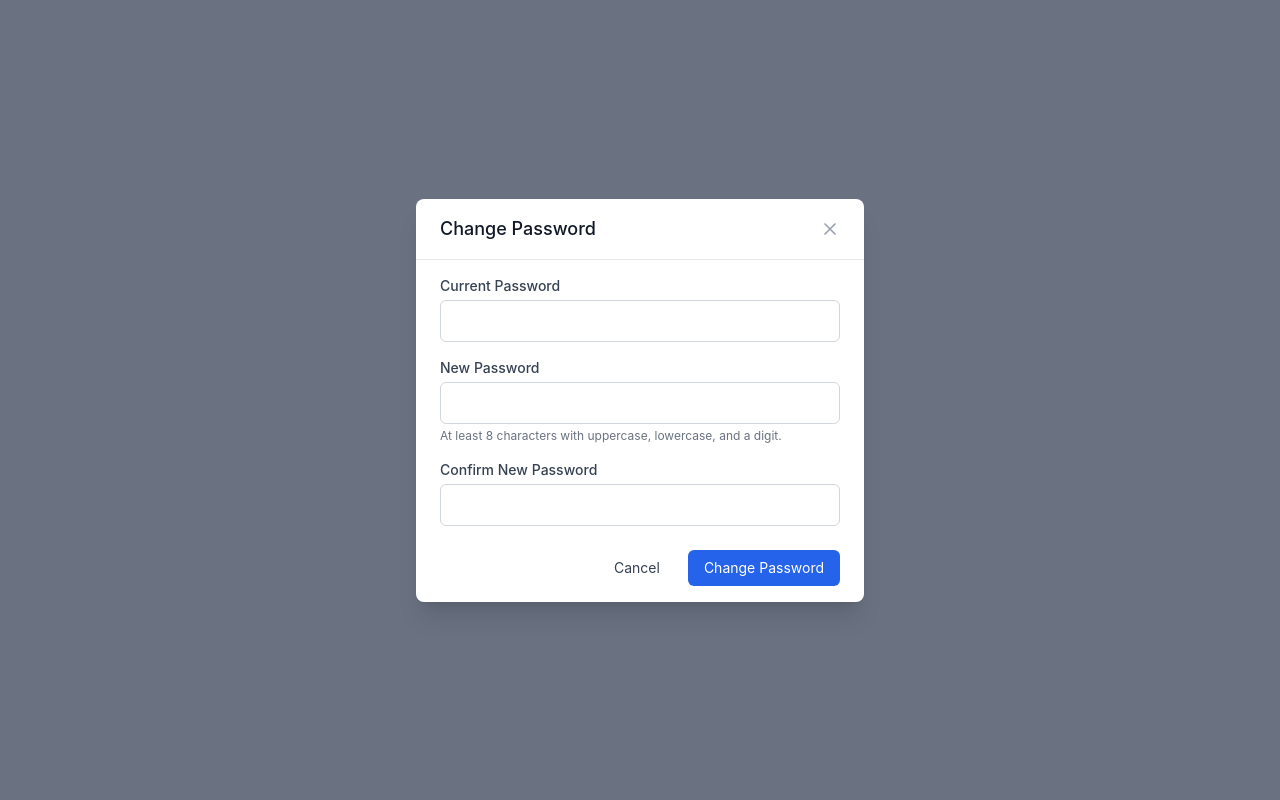
Test case: ChangePasswordModal › shows error when passwords do not match
Type "OldPass123" into the password field labelled "Current Password" at (640, 320), box [440, 300, 840, 342]
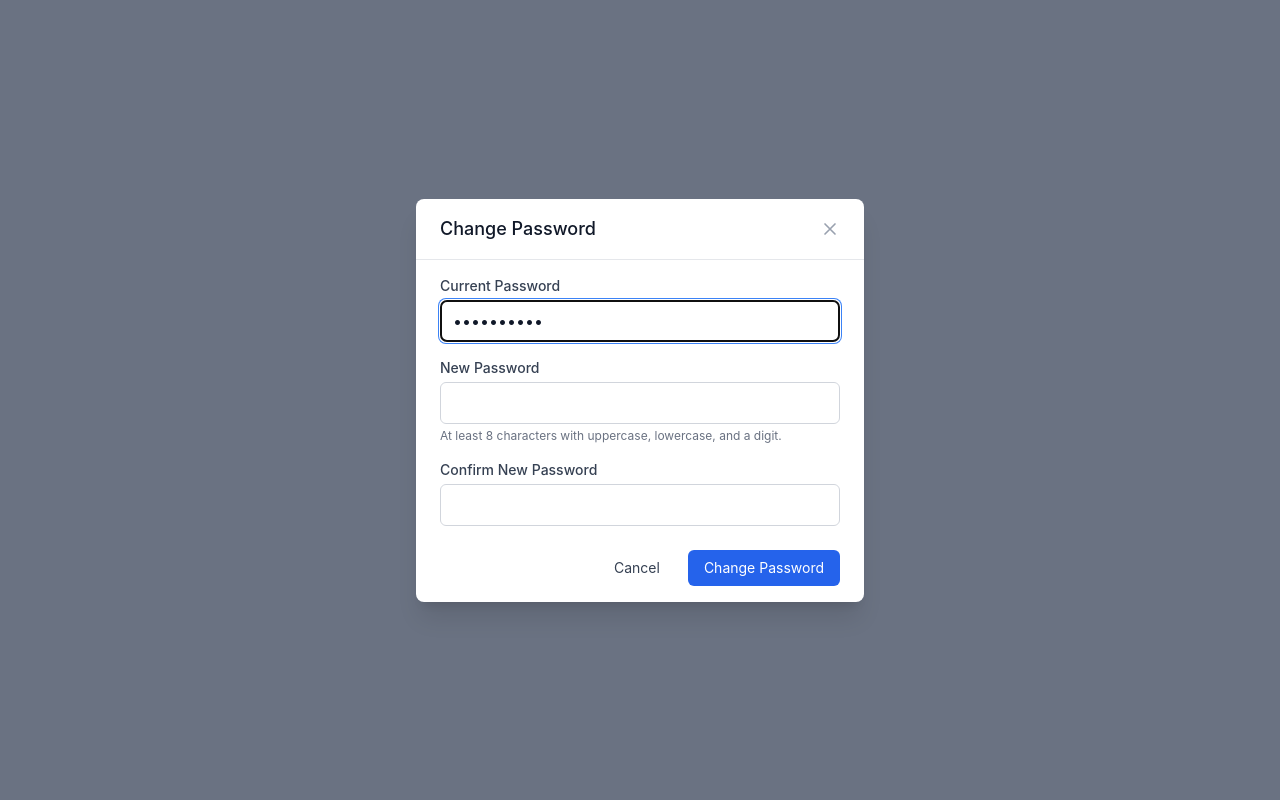
Type "NewPass123" into the password field labelled "New Password" at (640, 402), box [440, 382, 840, 424]
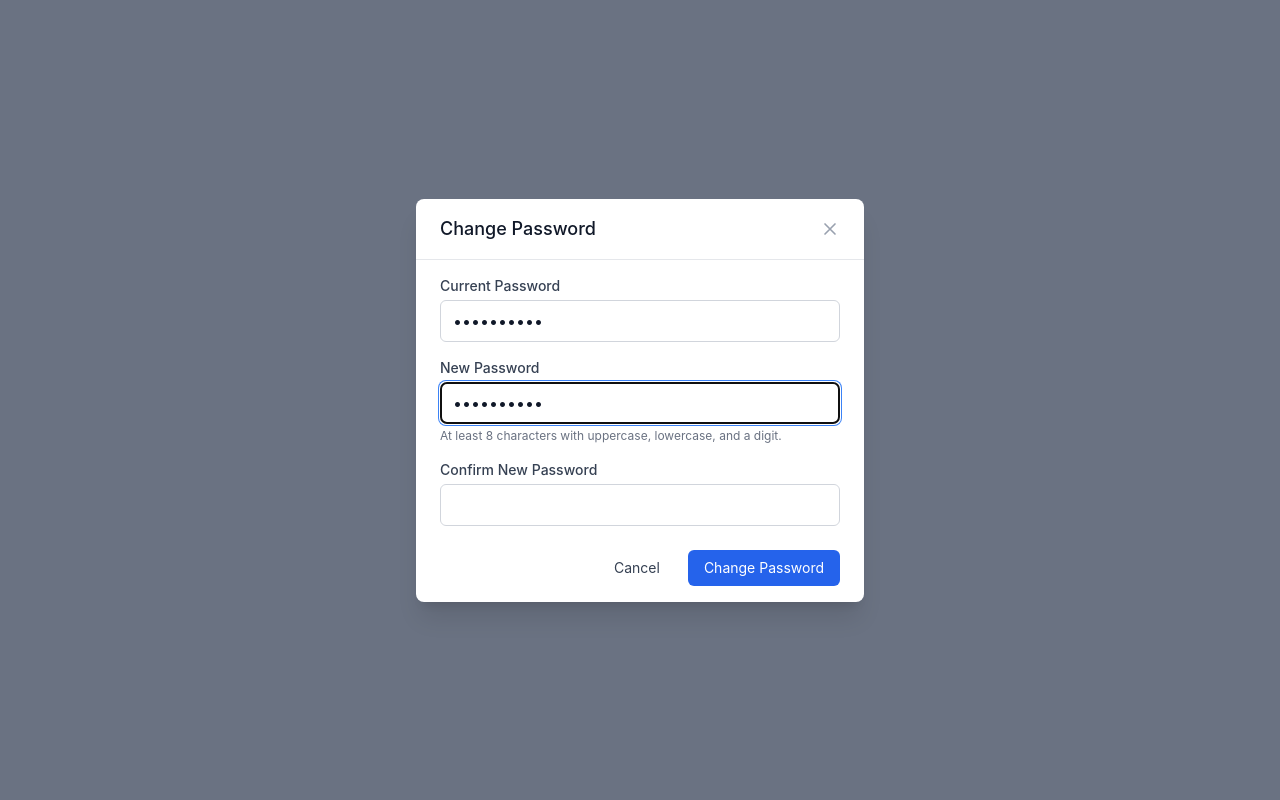
Type "Different1" into the password field labelled "Confirm New Password" at (640, 504), box [440, 484, 840, 526]
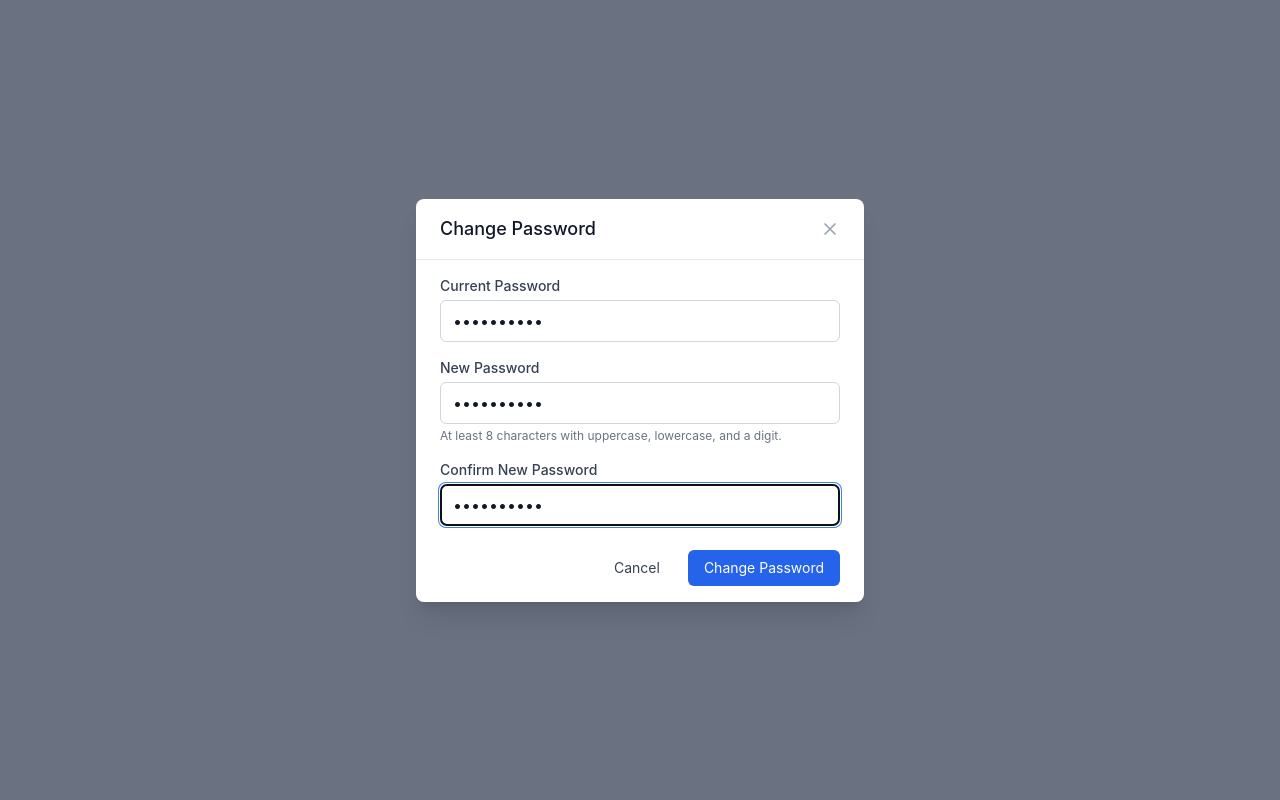
Click the button "Change Password" at (764, 568), box [688, 550, 840, 586]
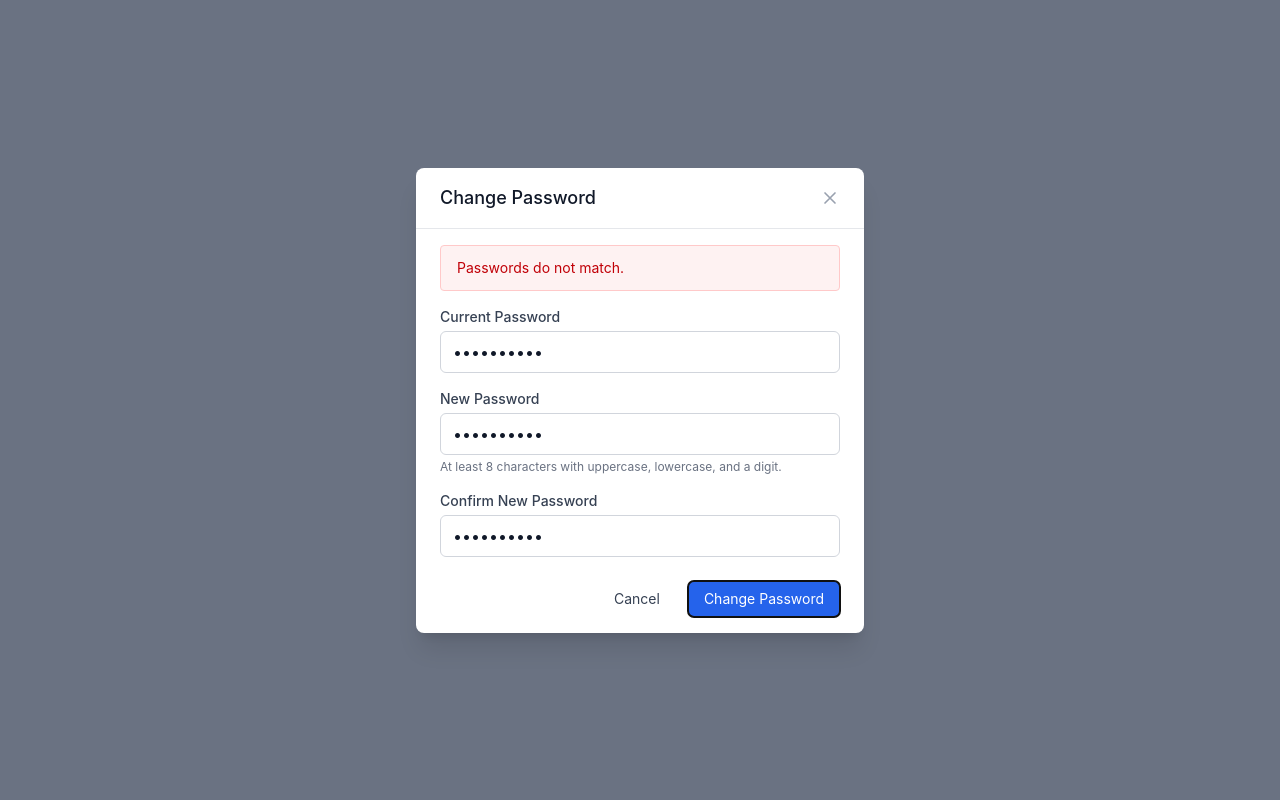
Expected: the message shows "Passwords do not match", [457, 258, 624, 276]
